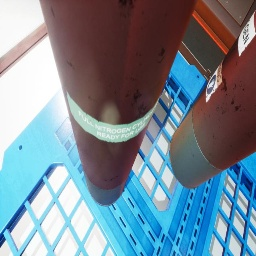NitrogenTank ,: (39, 0, 198, 207), (170, 10, 256, 189)
